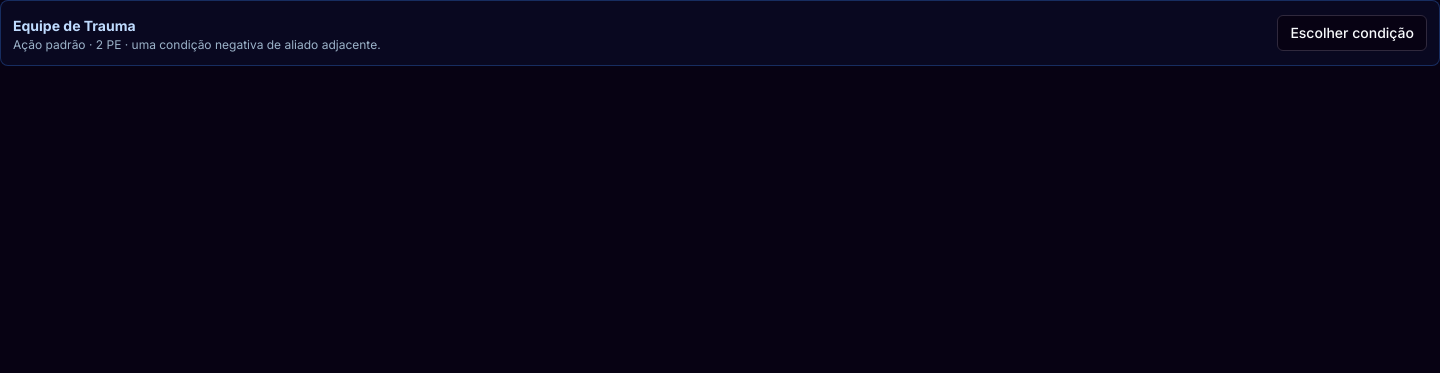
Test: Equipe de Trauma e Resgate › não oferece autoaplicação nem alvo narrativo e só envia uma condição confirmada do aliado
Later steps or results of the test are not shown.
Click the button "Escolher condição" at (1352, 33), box [1277,15,1427,51]
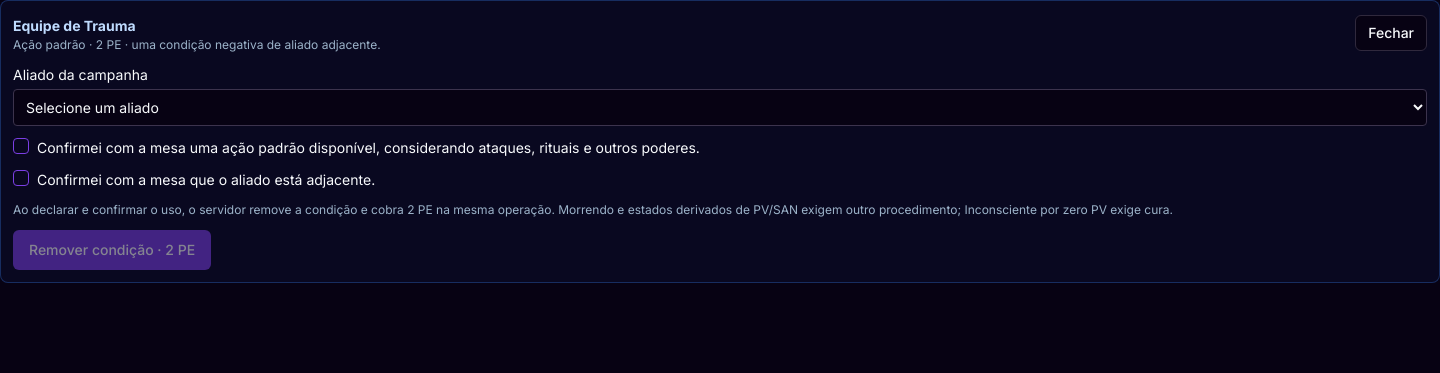
Select "Aliado" in the dropdown named "Alvo de Equipe de Trauma" at (720, 108), box [13,89,1427,126]
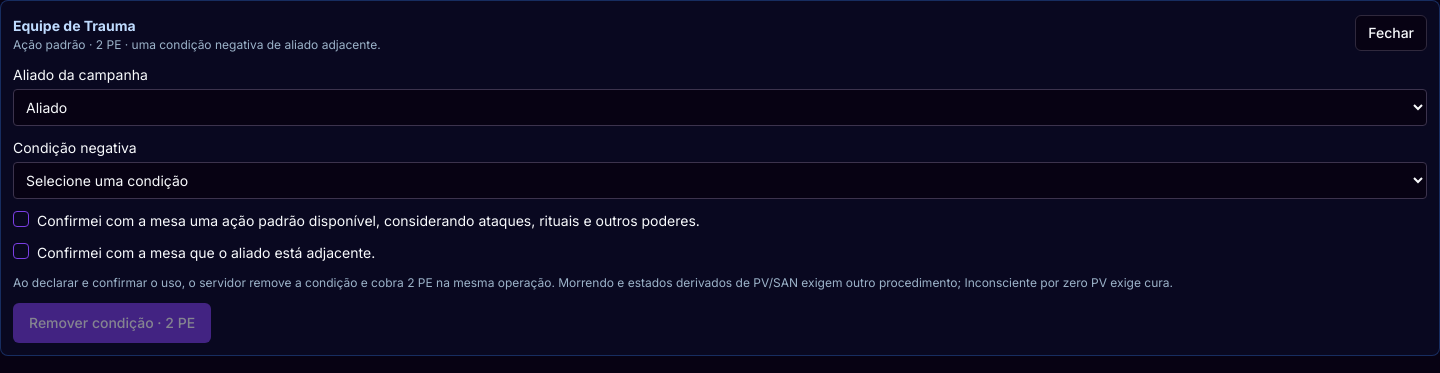
Select "Cego" in the dropdown named "Condição a remover" at (720, 180), box [13,162,1427,199]
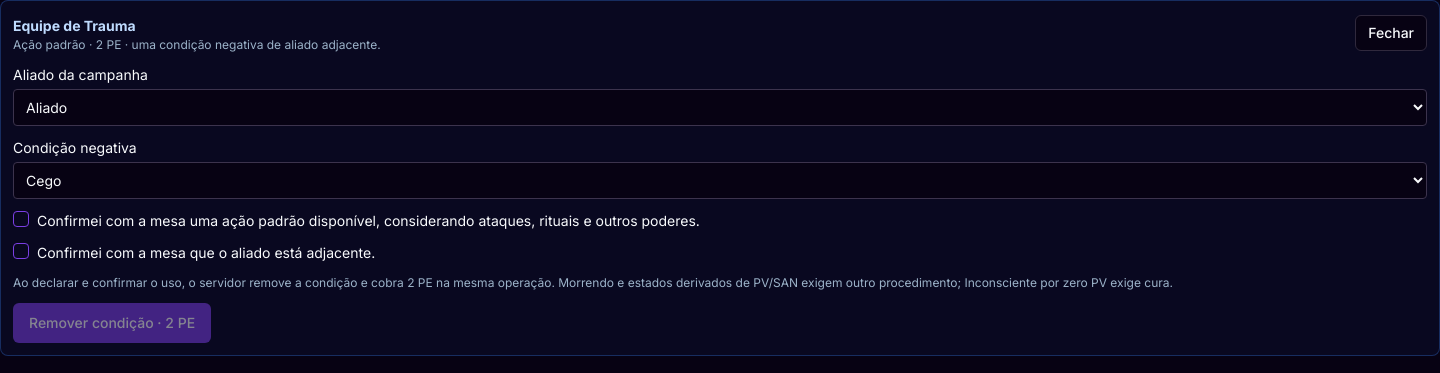
Expected: the button "Remover condição · 2 PE" is disabled, [13,303,211,343]
